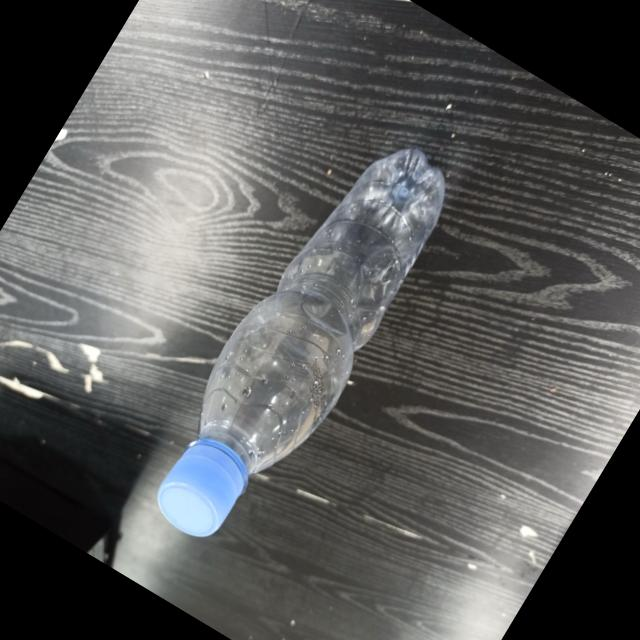BotolPlastik: (130, 116, 472, 568)
